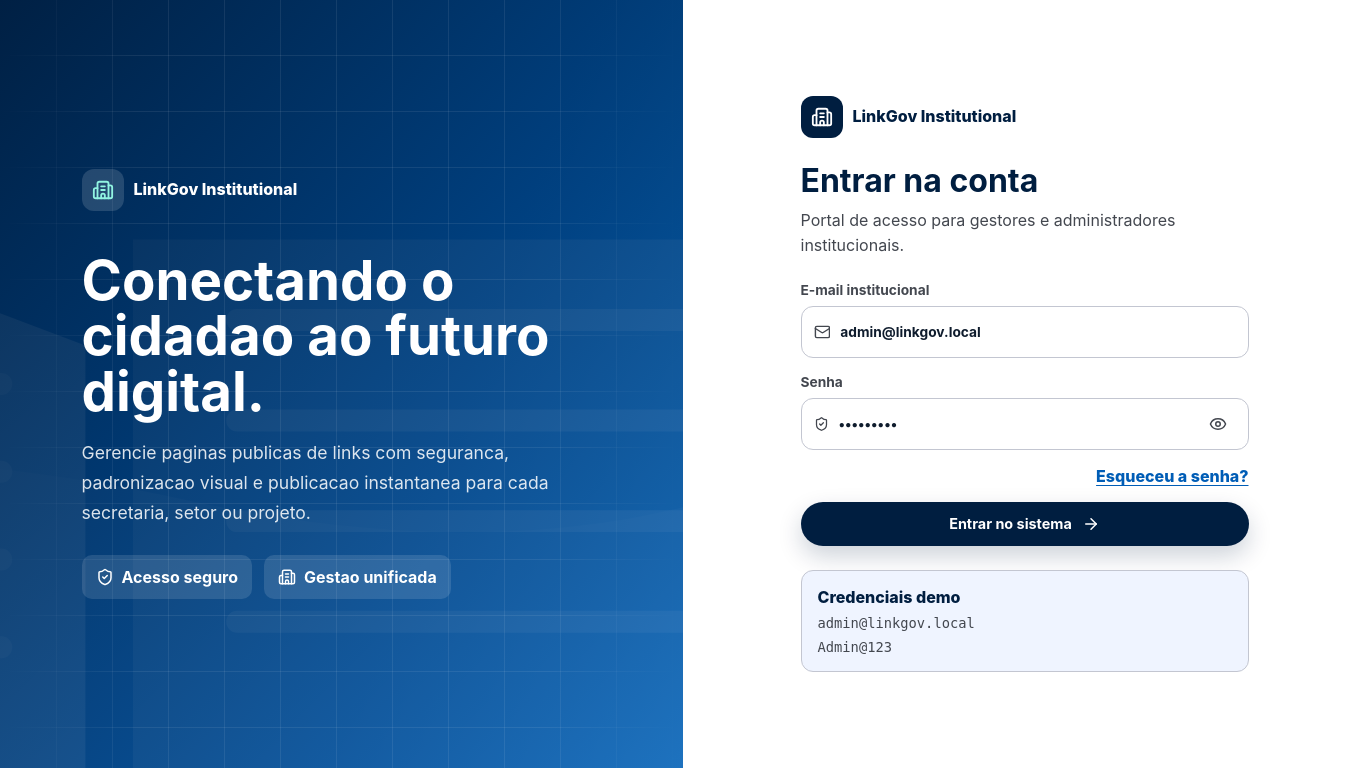
App critical flows › shows password reset entry point on login
Click the button "Esqueceu a senha?": (1172, 476) [1096,466,1248,486]
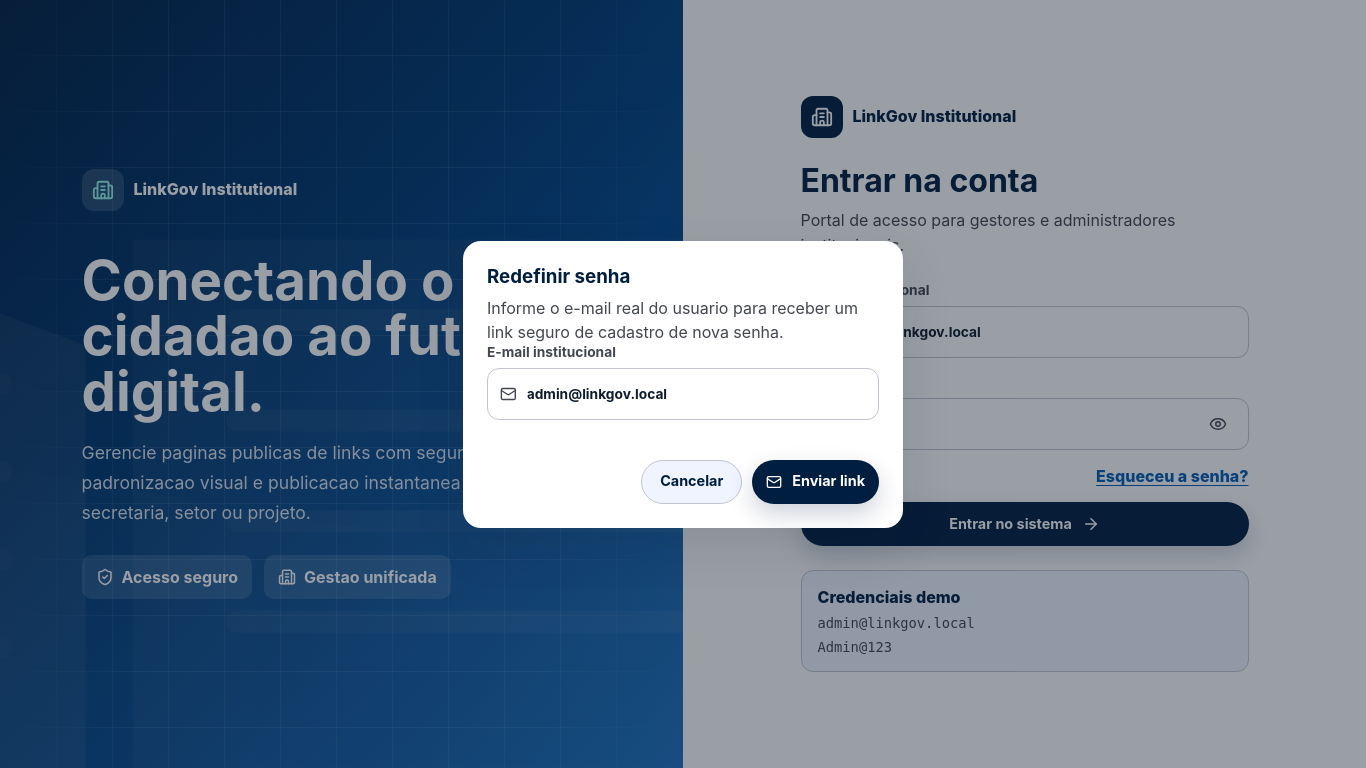
Now the heading "Redefinir senha" is shown, box [487,264,630,288]
Now the text "link seguro" is shown, box [487,298,858,342]
